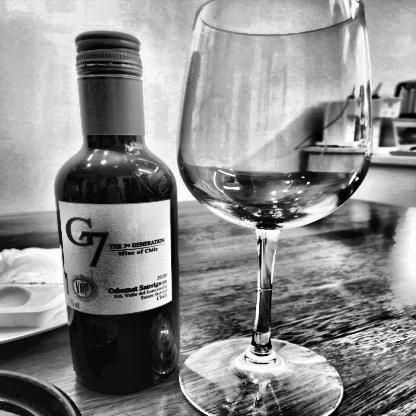G7: (62, 198, 174, 317)
